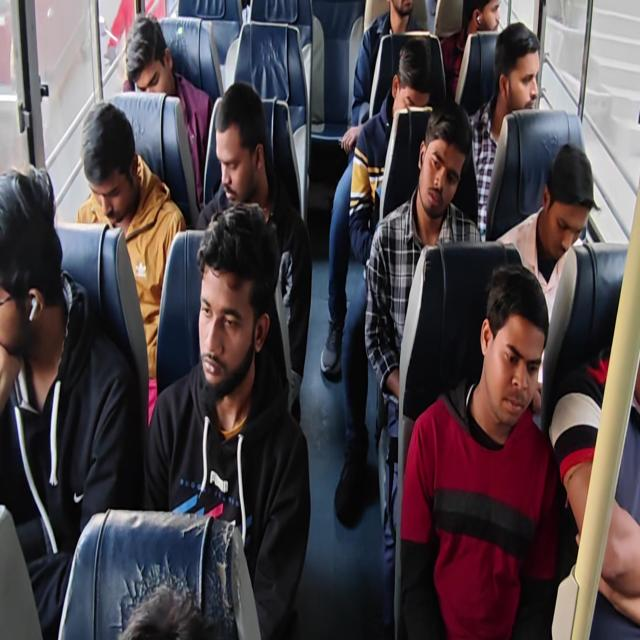person: (1, 1, 638, 638), (144, 202, 311, 638), (0, 163, 140, 637), (364, 100, 483, 635), (398, 262, 566, 638), (320, 0, 428, 381), (195, 81, 312, 424), (76, 101, 186, 426), (494, 142, 600, 420), (549, 343, 639, 639), (348, 38, 435, 265), (124, 12, 214, 205), (466, 22, 541, 240), (342, 0, 427, 154), (439, 0, 501, 102), (116, 583, 217, 639)
